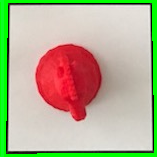Red Knight: (32, 41, 105, 124)
